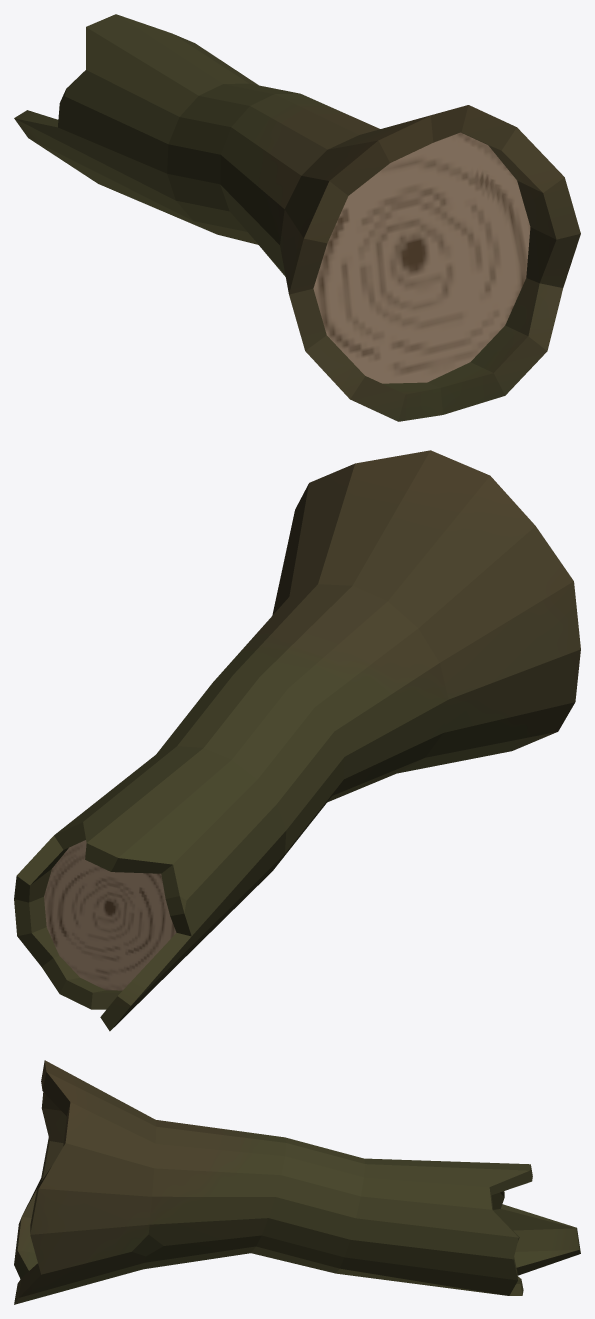
File: Trunk_2.fbx
3 views of the same model, one above another, from view 1: azimuth 30°, elevation 25°; view 2: azimuth 150°, elevation 25°; view 3: azimuth 270°, elevation 25° (orthographic). The views are drawn at different scales.
Visible parts, largest first — view 1: Trunk 2; view 2: Trunk 2; view 3: Trunk 2.
Part boxes in pixels (x1,y1,x2,y2): Trunk 2: (14,14,580,421); Trunk 2: (14,450,580,1031); Trunk 2: (14,1060,580,1304).
Bounding box in the file's own units: 656 × 651 × 1502.
